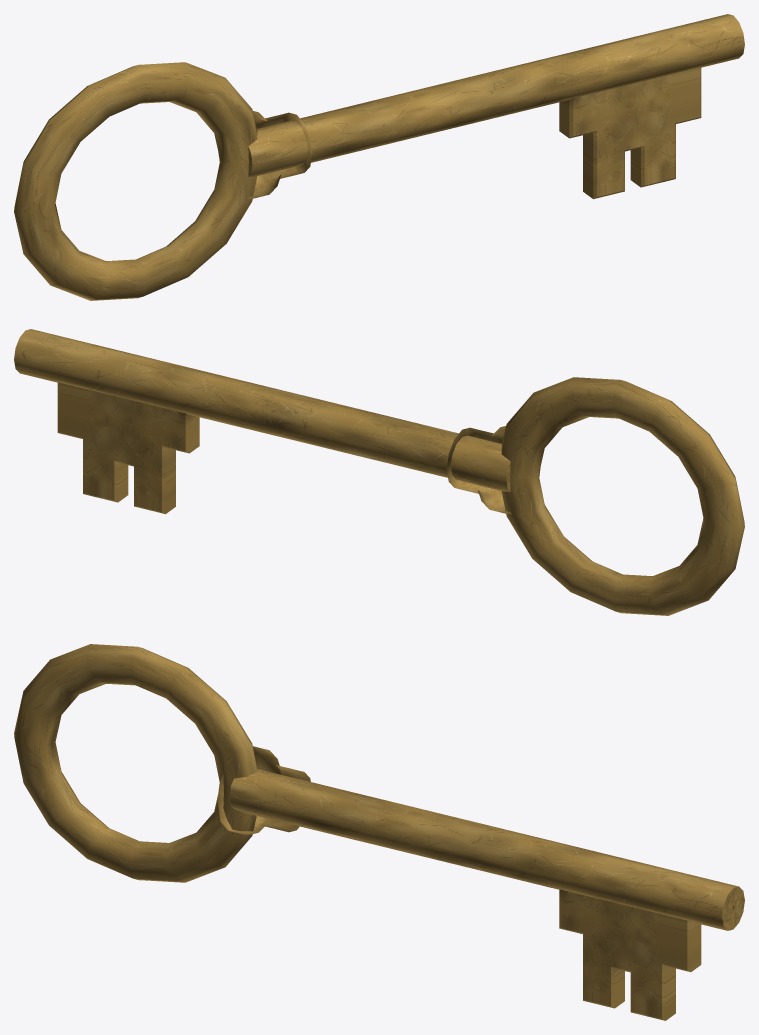
The model's file is ключ палаты деда.glb.
The picture shows the model from 3 angles, top to bottom: view 1: azimuth 30°, elevation 25°; view 2: azimuth 150°, elevation 25°; view 3: azimuth 330°, elevation 25°; orthographic projection.
Parts seen in each view (by area): view 1: Key_Bow, Key_Shaft, Key_Bit, Key_Collar; view 2: Key_Bow, Key_Shaft, Key_Bit, Key_Collar; view 3: Key_Bow, Key_Shaft, Key_Bit, Key_Collar.
Part boxes in pixels (left/top/right/bottom): Key_Bow: left=14, top=62, right=257, bottom=300; Key_Shaft: left=248, top=14, right=744, bottom=176; Key_Bit: left=559, top=67, right=701, bottom=199; Key_Collar: left=218, top=111, right=312, bottom=199; Key_Bow: left=501, top=377, right=744, bottom=615; Key_Shaft: left=14, top=329, right=510, bottom=491; Key_Bit: left=57, top=382, right=199, bottom=514; Key_Collar: left=446, top=426, right=540, bottom=514; Key_Bow: left=14, top=644, right=257, bottom=882; Key_Shaft: left=229, top=769, right=744, bottom=930; Key_Bit: left=559, top=889, right=701, bottom=1020; Key_Collar: left=217, top=746, right=310, bottom=835.
Bounding box in the file's own units: 4.53 × 1.45 × 0.48.
Materials: 1 (1 with a texture image).
